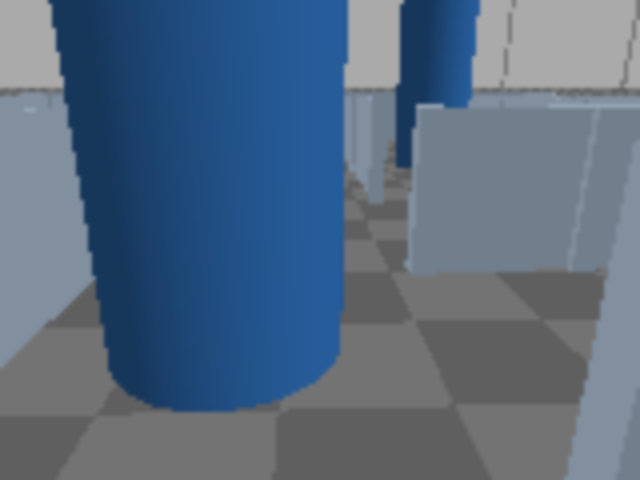person: (0, 0, 376, 412)
